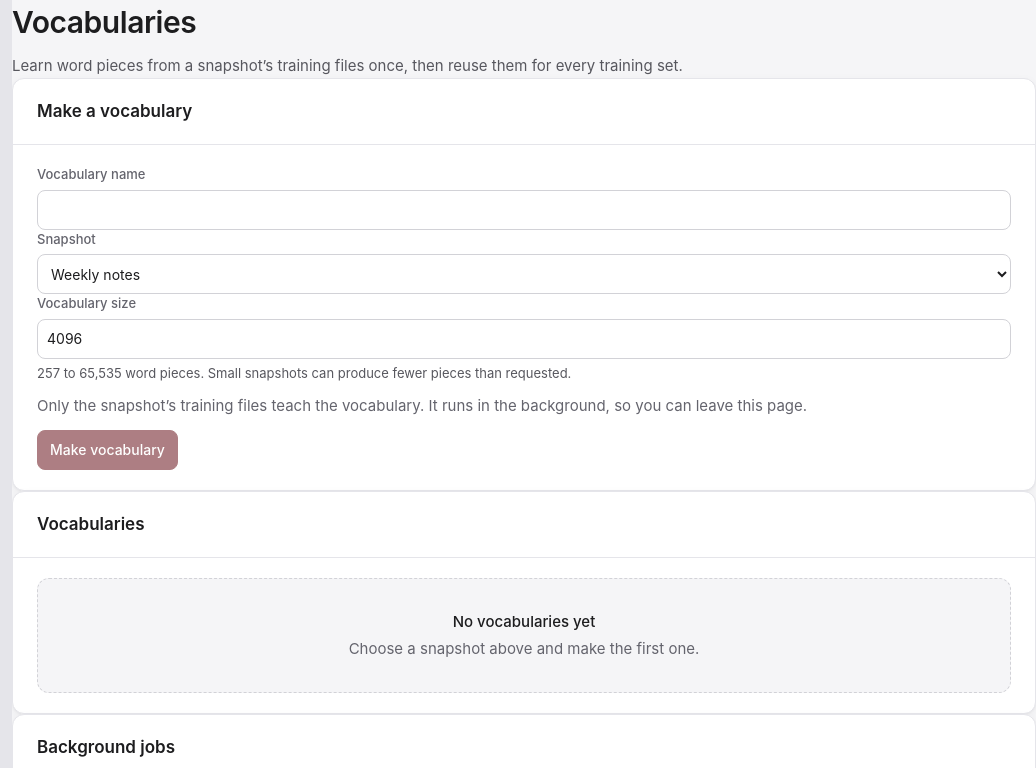
Test: blocks sizes outside 257 to 65,535
The width and height of the screenshot is (1036, 768).
Type "big" into the field labelled "Vocabulary name" at (524, 210), box [37, 190, 1011, 230]
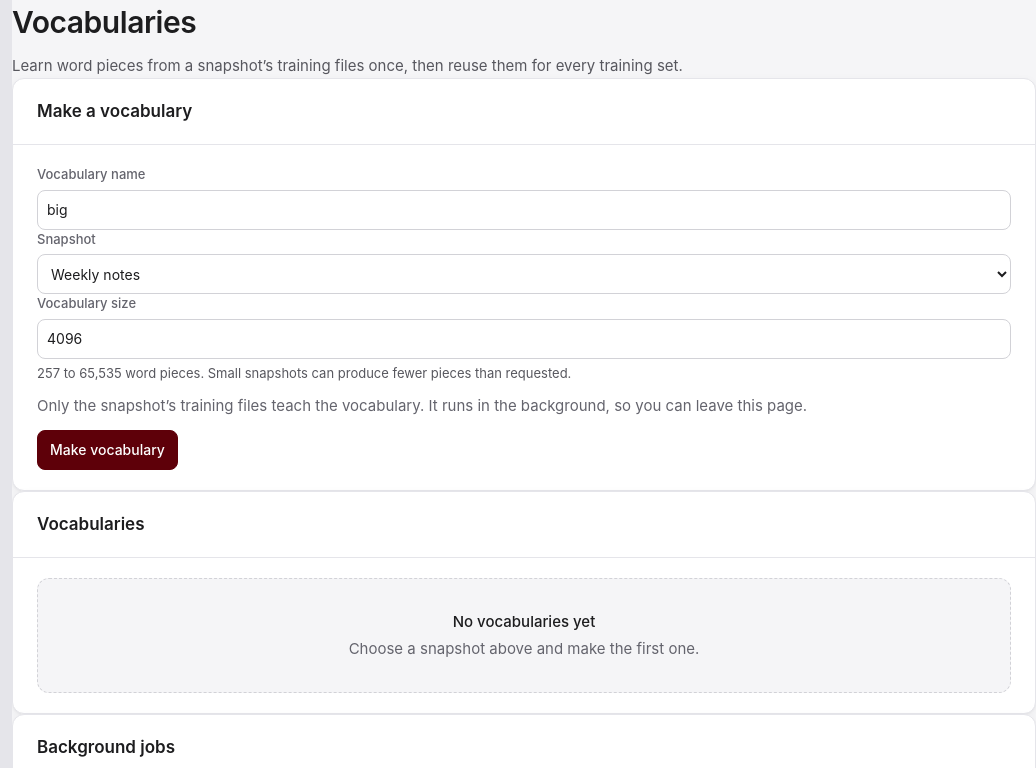
Replace the text in the number field labelled "Vocabulary size" with "70000" at (524, 338), box [37, 318, 1011, 358]
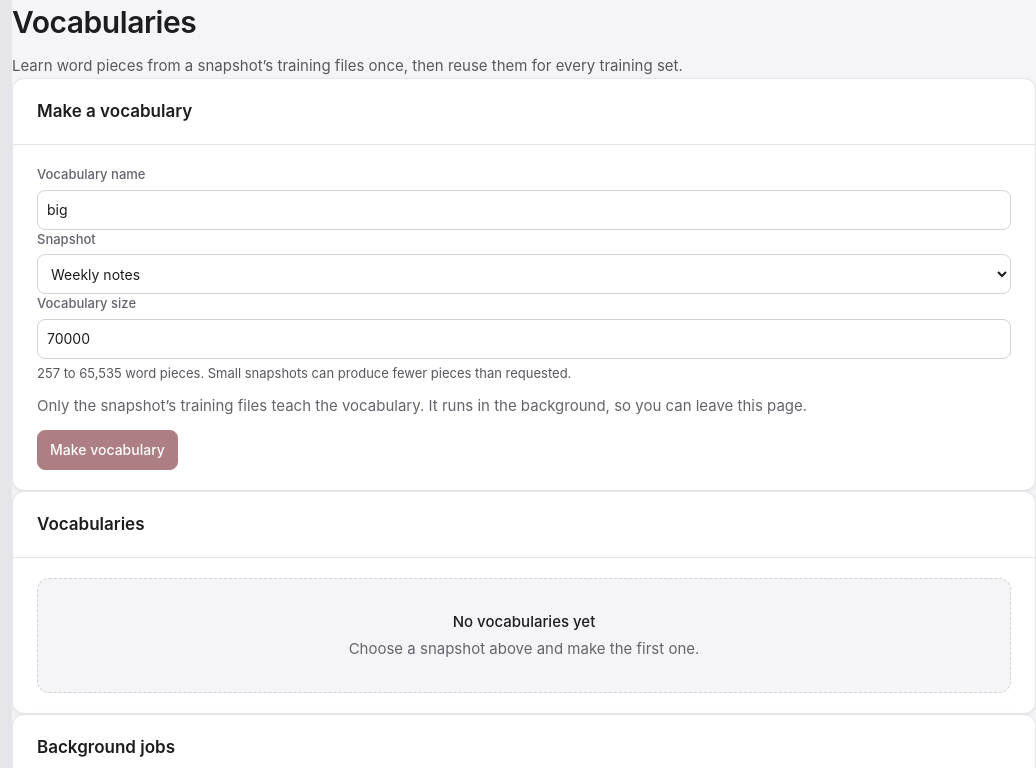
Now the button "Make vocabulary" is disabled, box [37, 430, 178, 470]
